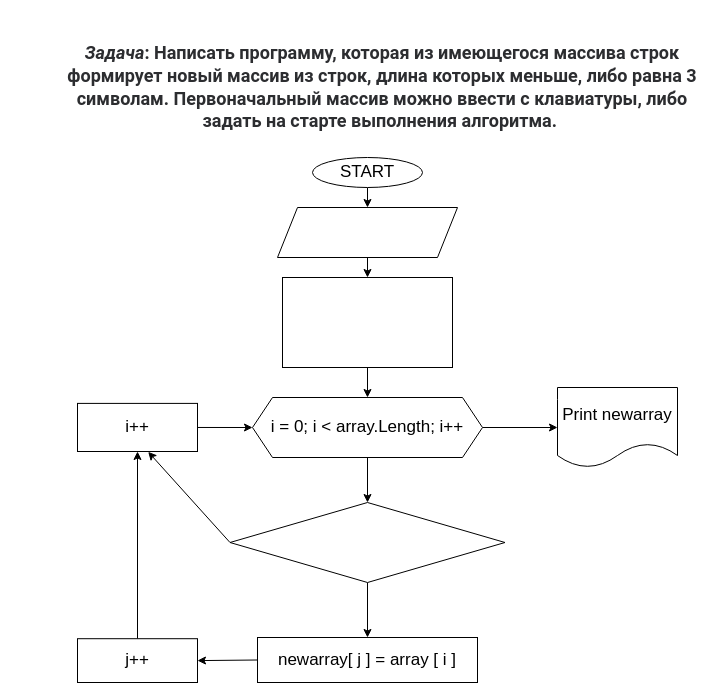
This 724x700 diagram has some shape labels left out. The shapes that lost their labels are listed below. From the top down, each one's centre as x and y in pixels, then its label:
At pixel 367 232: "string [ ] array".
At pixel 367 322: "int i = 0 int j = 0 int count = 3 string [ ] newarray".
At pixel 367 542: "newarray.Length <= count".
